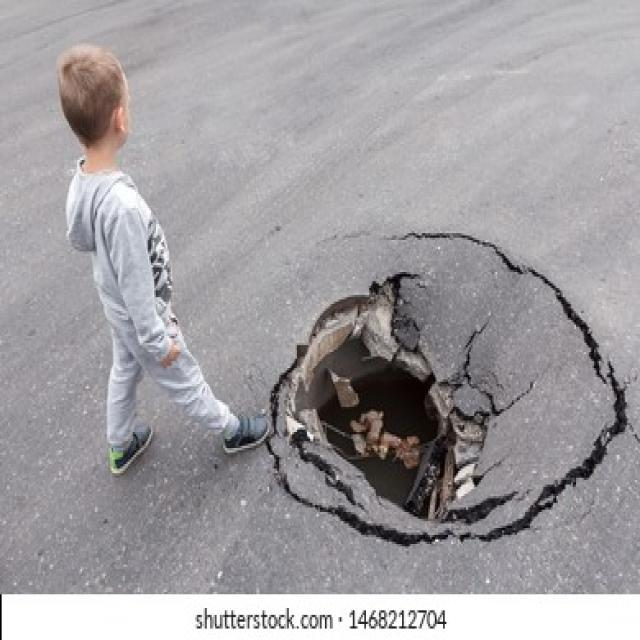road collapse: (210, 154, 640, 571)
